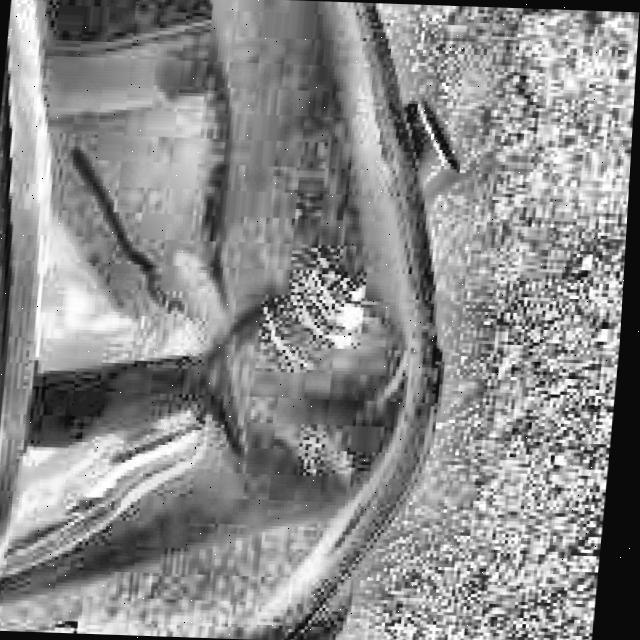bumper_dent: (204, 295, 405, 473)
